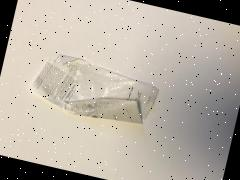paper: (18, 30, 198, 163)
